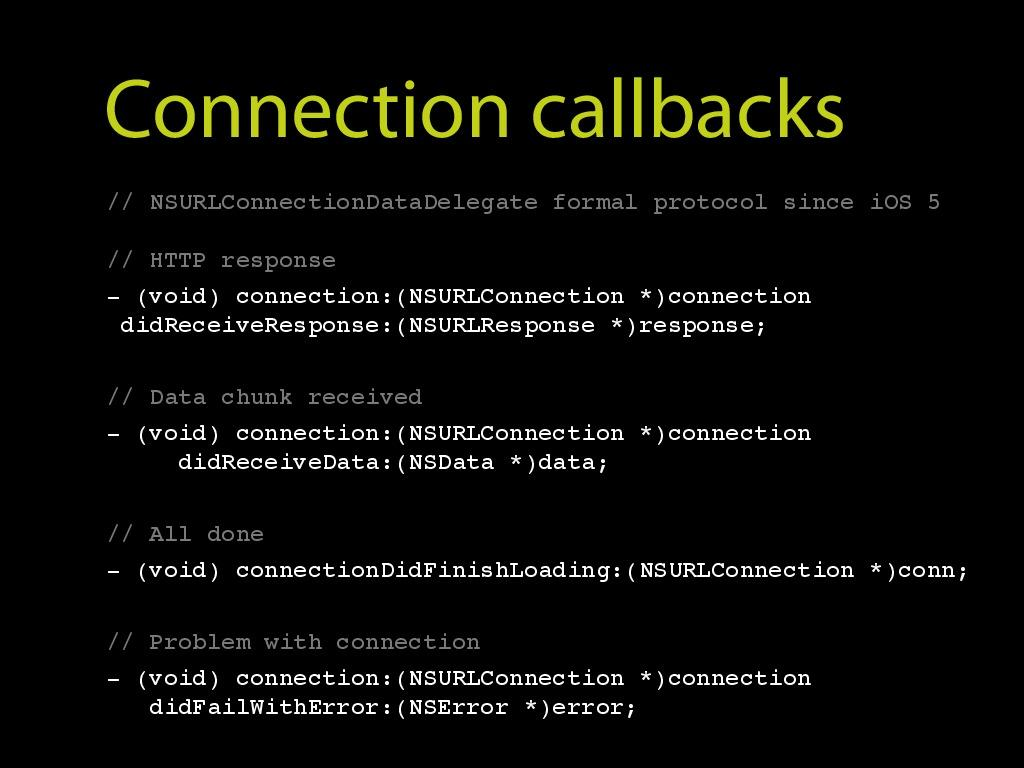paragraph: (84, 170, 996, 734)
title: (86, 54, 885, 166)
